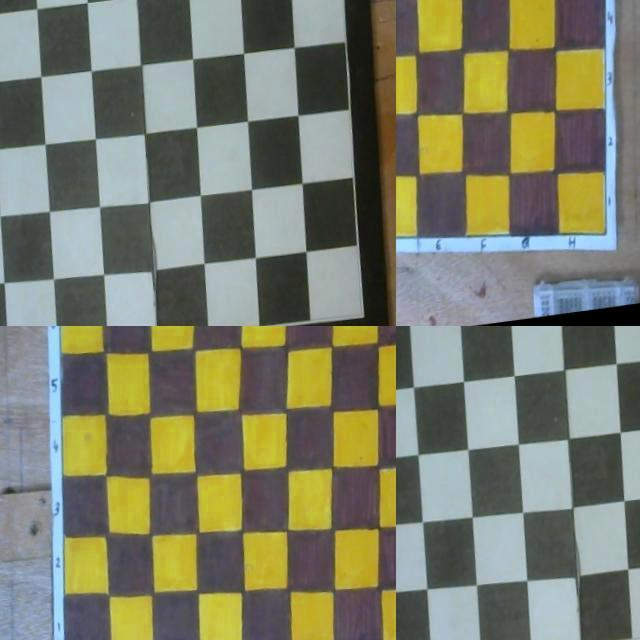chess-table-corners: (366, 314, 372, 322), (328, 0, 335, 4), (609, 230, 613, 237), (396, 234, 399, 242), (53, 326, 59, 330), (605, 0, 609, 4), (0, 0, 3, 4)
